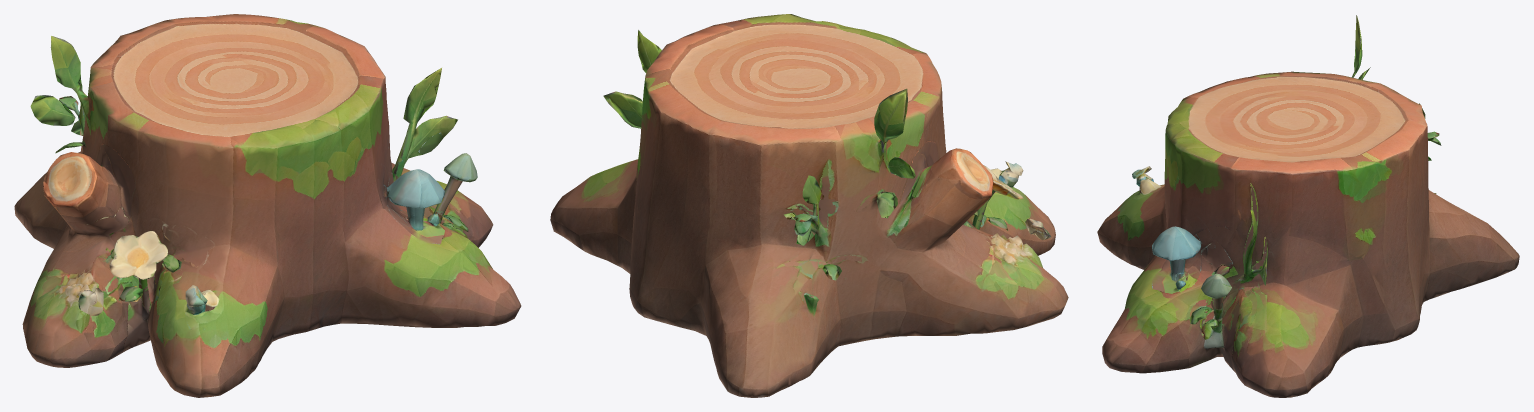
File: Mossy Tree Stump.fbx
3 renders of one model, left to right at view 1: azimuth 30°, elevation 25°; view 2: azimuth 150°, elevation 25°; view 3: azimuth 270°, elevation 25°, orthographic. The views are drawn at different scales.
Visible parts, largest first — view 1: texture_mapping; view 2: texture_mapping; view 3: texture_mapping.
Part boxes in pixels (bbox=[...]): texture_mapping: bbox=[14, 14, 521, 397]; texture_mapping: bbox=[550, 14, 1068, 397]; texture_mapping: bbox=[1097, 15, 1519, 397].
Bounding box in the file's own units: 1 × 0.8858 × 0.5134.
Materials: 1 (1 with a texture image).
